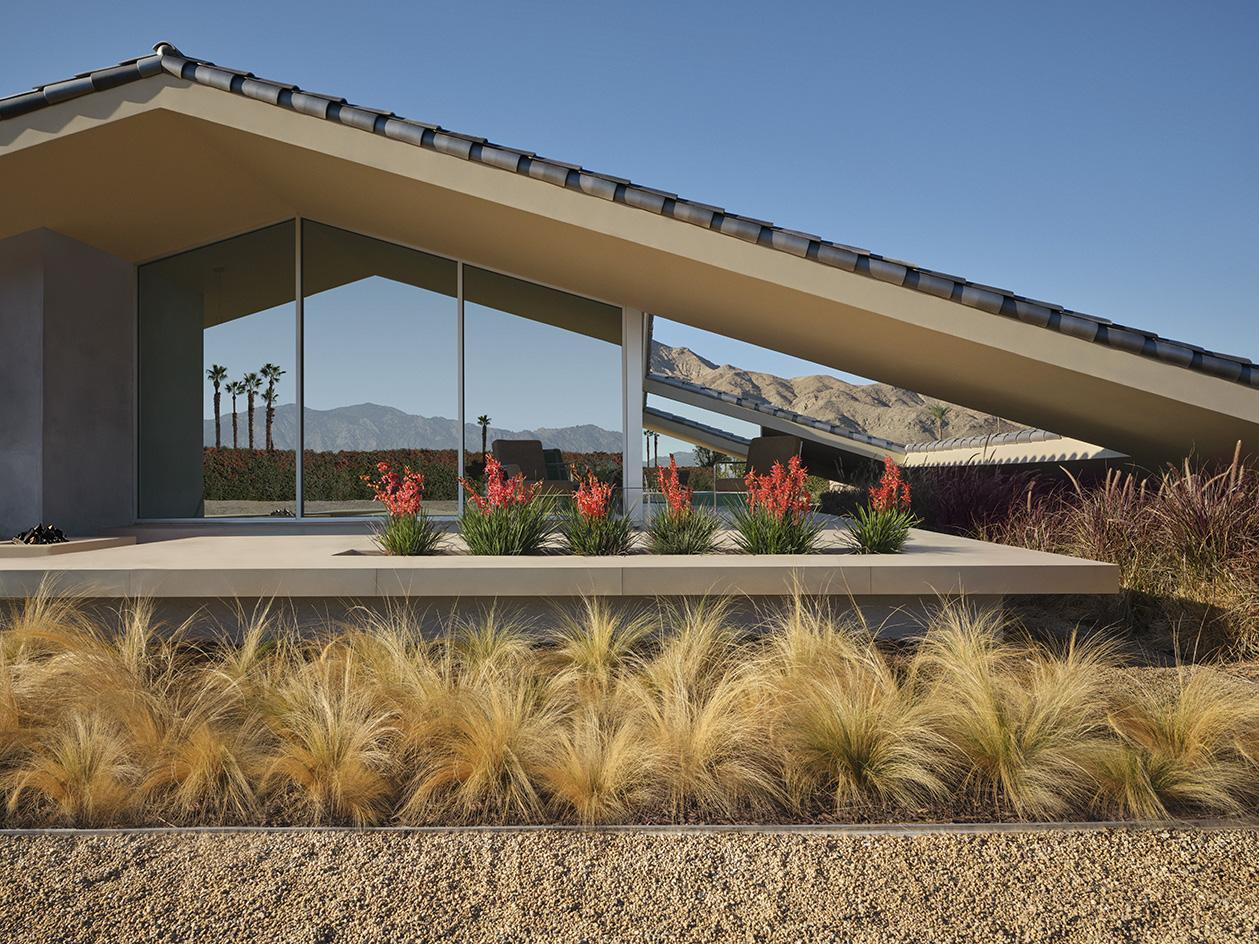casa: (25, 59, 1238, 619)
